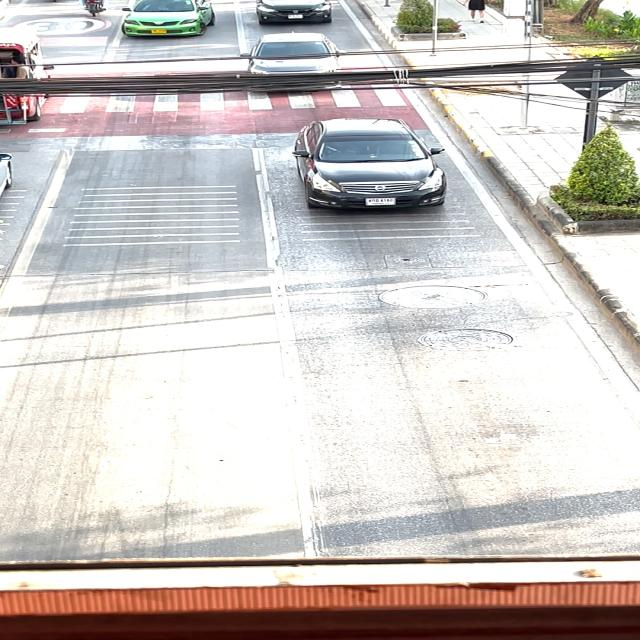car: (282, 113, 458, 220), (245, 30, 345, 92), (121, 0, 222, 35), (252, 0, 348, 24)
